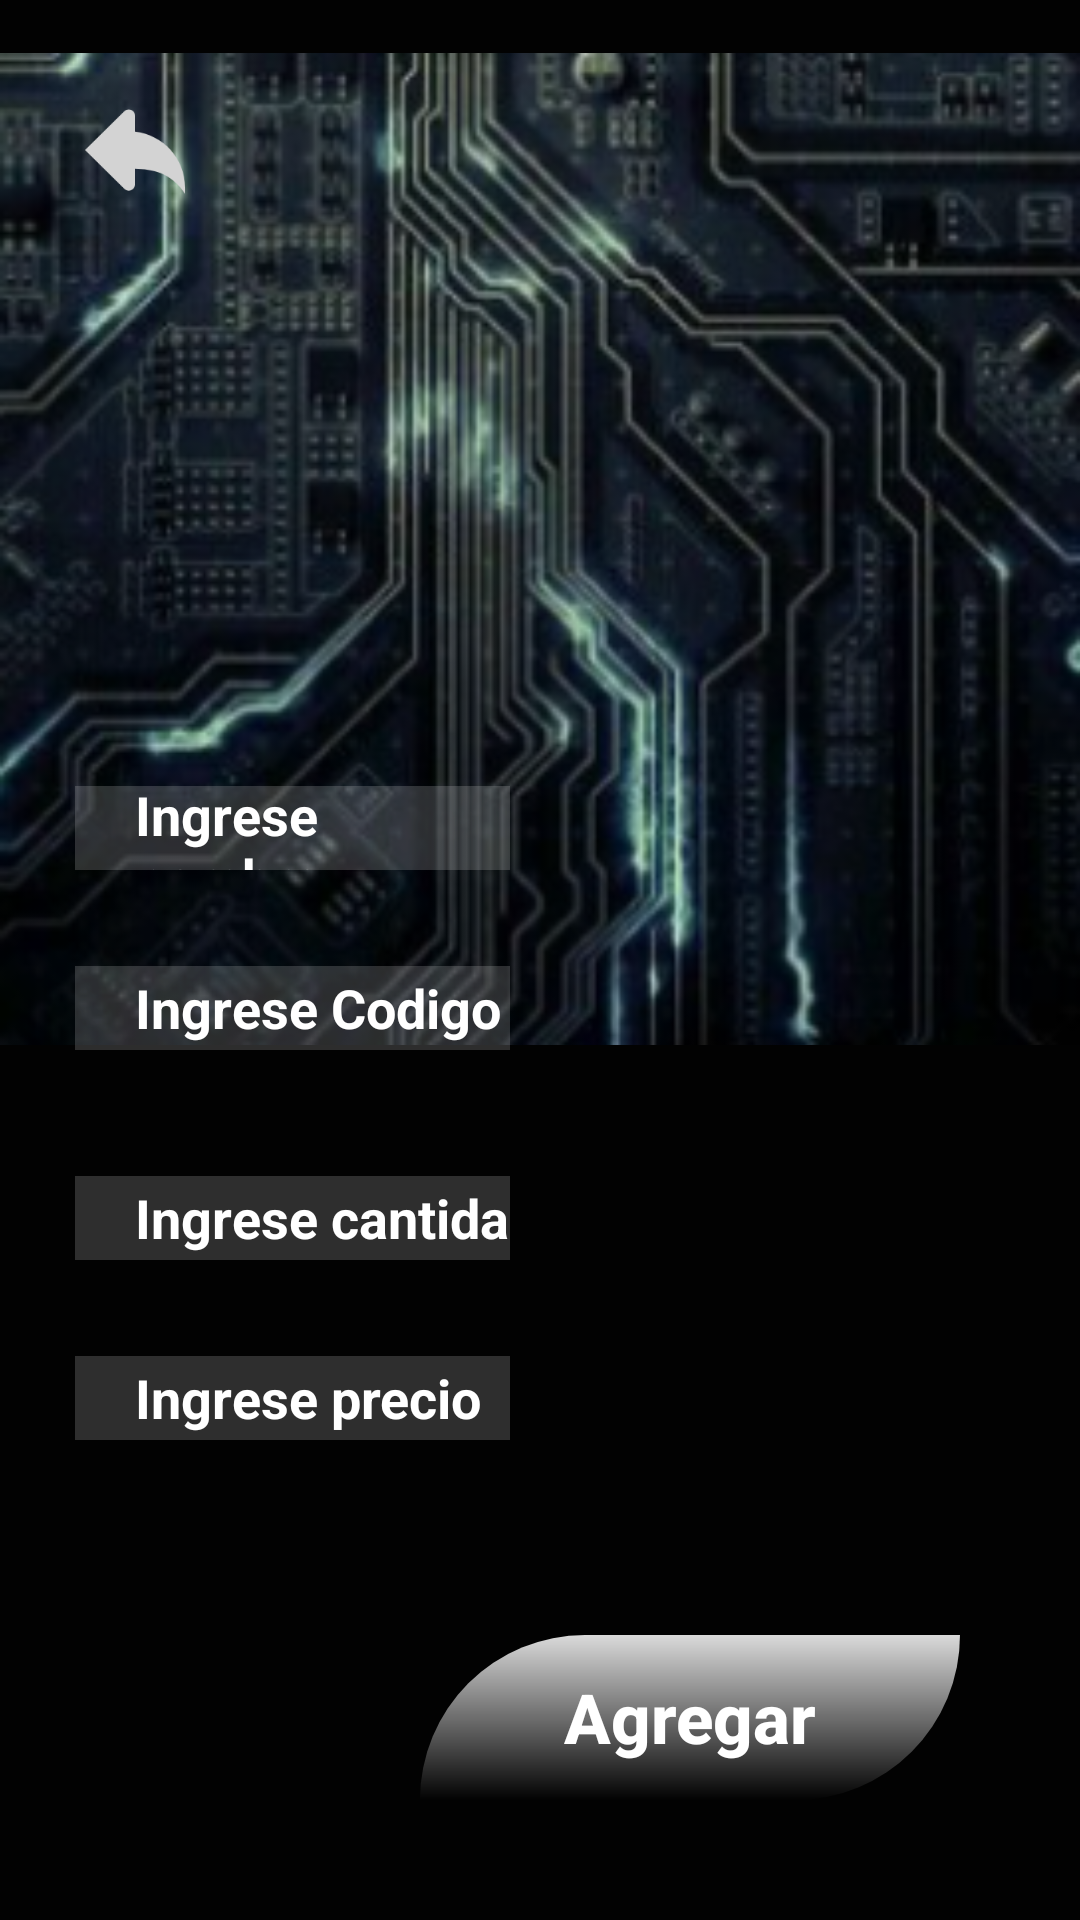

Point at icon controls on the screen. Image size 1080px x 1920px, points as [x,y].
back add: [124,150]
